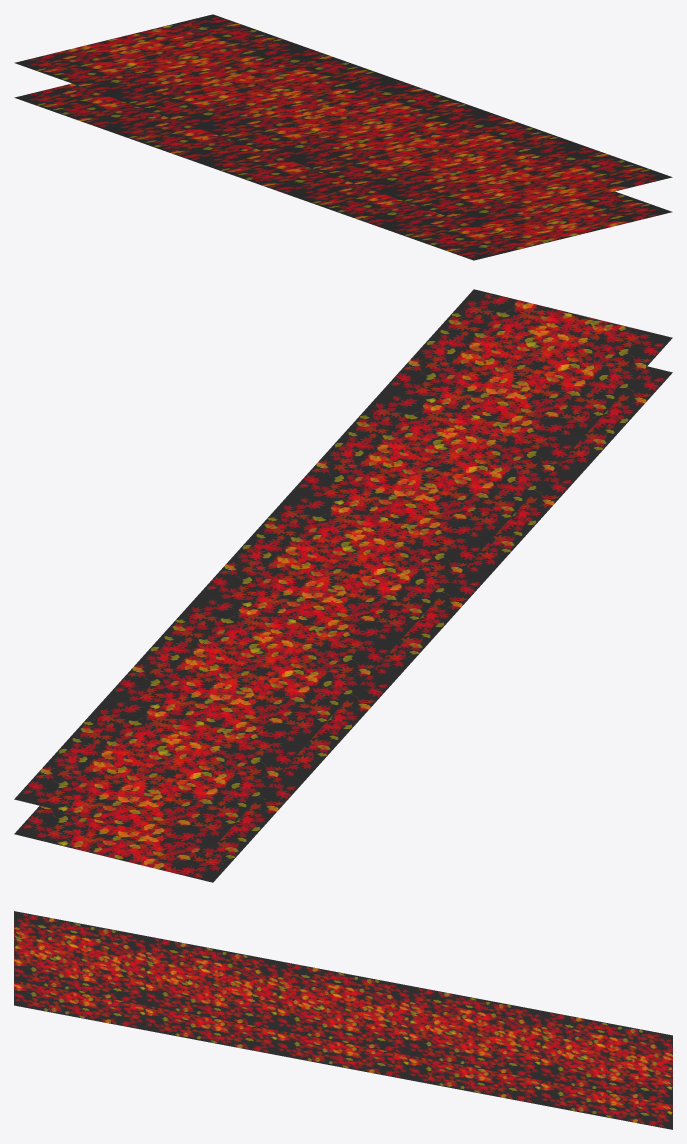
File: CourseAki_Floor_3.fbx
3 renders of one model, top to bottom at view 1: azimuth 30°, elevation 25°; view 2: azimuth 150°, elevation 25°; view 3: azimuth 270°, elevation 25°, orthographic. The views are drawn at different scales.
Visible parts, largest first — view 1: polySurface449; view 2: polySurface449; view 3: polySurface449.
Part boxes in pixels (bbox=[...]): polySurface449: bbox=[14, 14, 672, 260]; polySurface449: bbox=[14, 289, 672, 882]; polySurface449: bbox=[14, 911, 672, 1129].
Bounding box in the file's own units: 6 × 6 × 24.
Materials: 1 (1 with a texture image).
